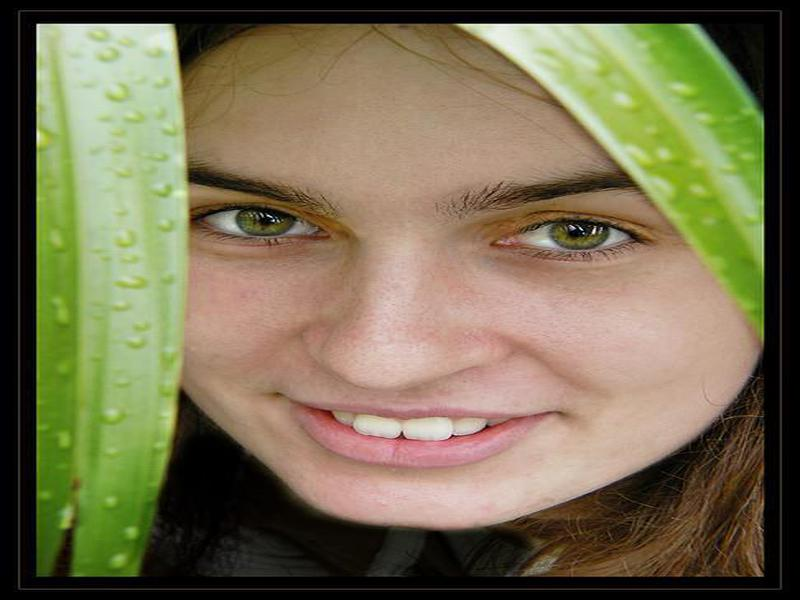person: (81, 18, 765, 573)
